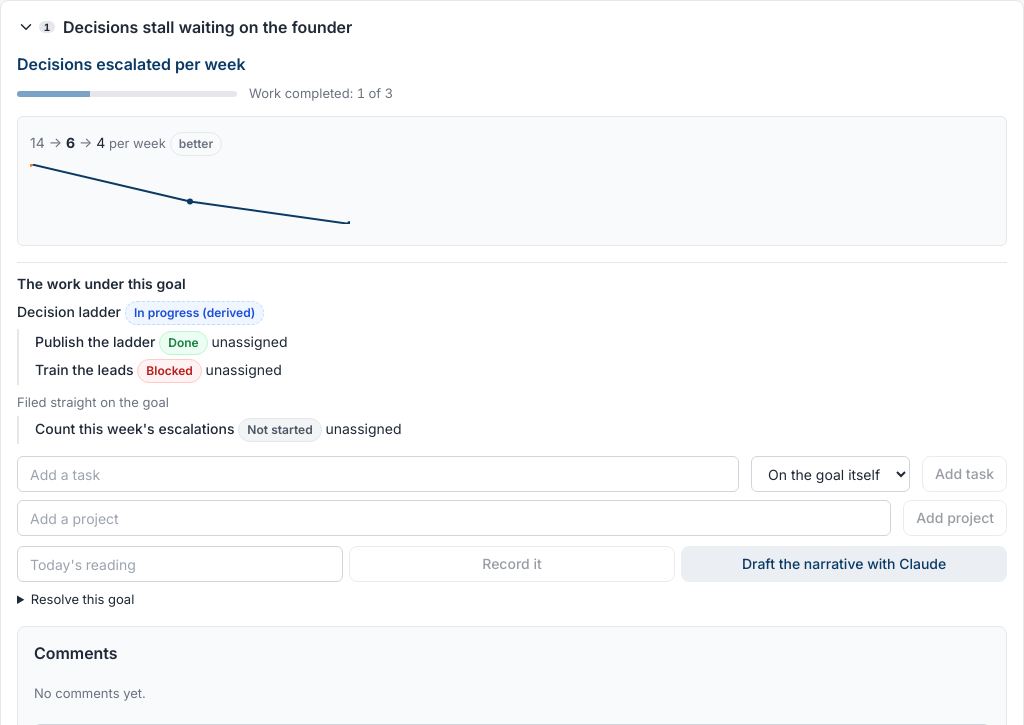
Test case: the client value report › will not resolve a goal without a reason
This screenshot has width=1024, height=725.
(page scrolled)
Click the heading "Resolve this goal". click: (83, 599)
box: x1=31 y1=591 x2=134 y2=607
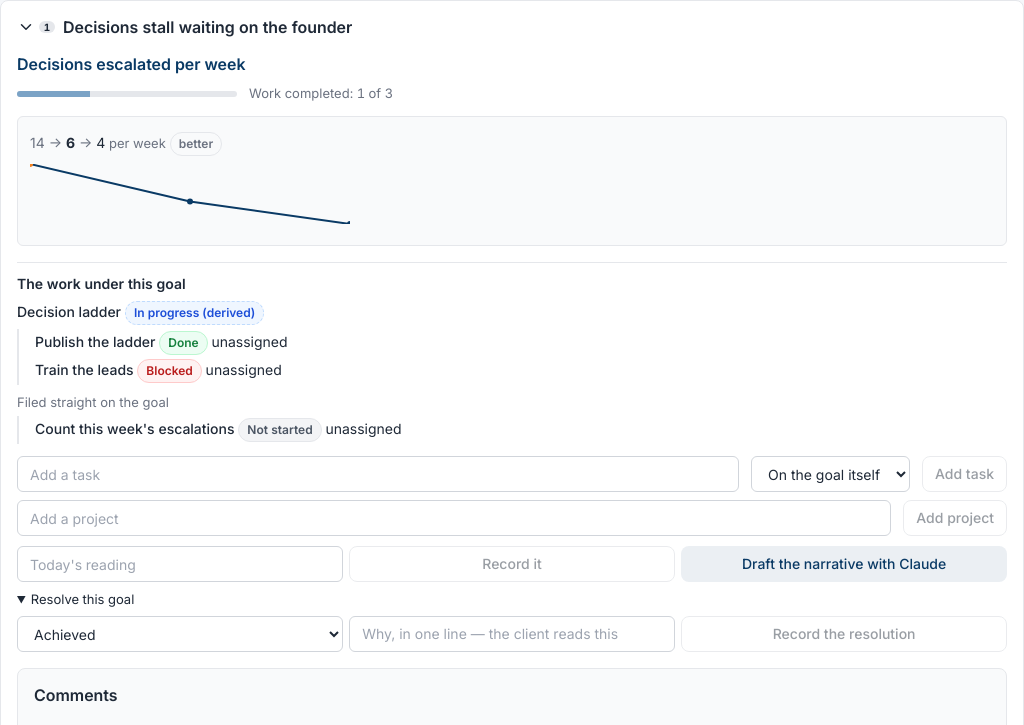
Expected: the button "Record the resolution" is disabled, x1=681 y1=616 x2=1007 y2=652
Type "It regressed." into the field named "Reason for Decisions stall waiting on the founder". click: (512, 634)
box: x1=349 y1=616 x2=675 y2=652
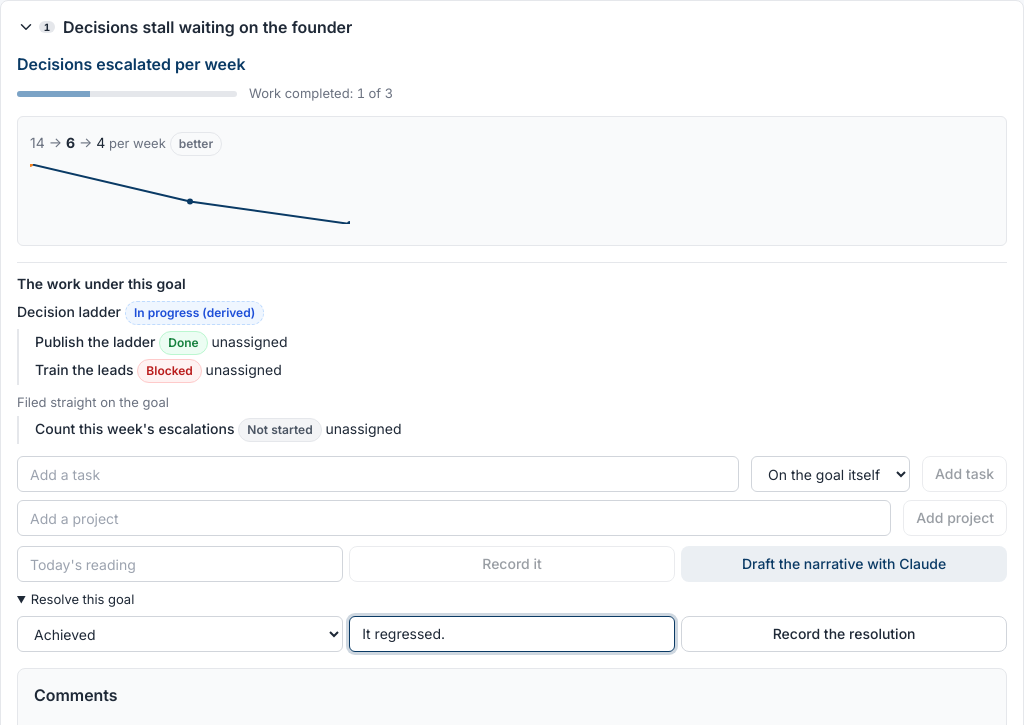
Expected: the button "Record the resolution" is enabled, x1=681 y1=616 x2=1007 y2=652
